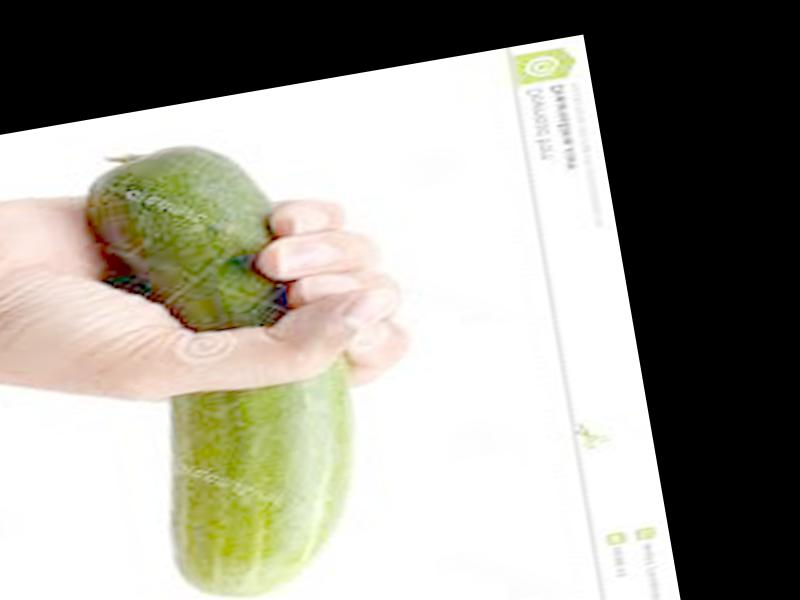Cucumber: (80, 127, 386, 600)
